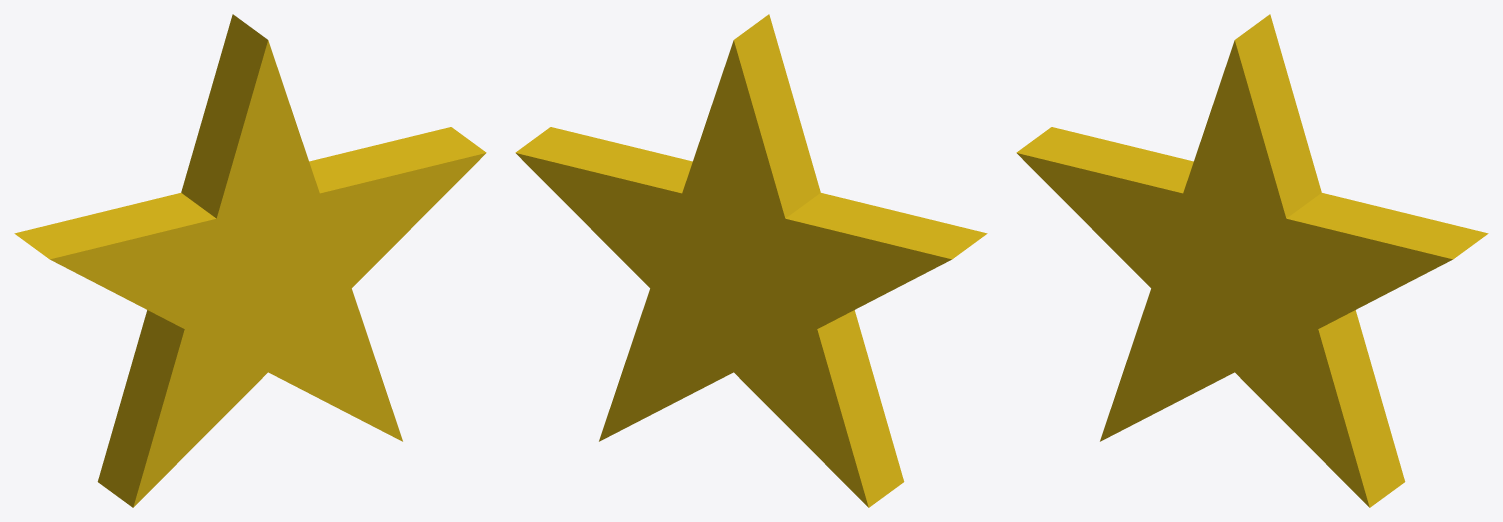
File: Estrella.fbx
3 views of the same model, side by side, from view 1: azimuth 30°, elevation 25°; view 2: azimuth 150°, elevation 25°; view 3: azimuth 330°, elevation 25° (orthographic).
Visible parts, largest first — view 1: Circle; view 2: Circle; view 3: Circle.
Part boxes in pixels (x1,y1,x2,y2): Circle: (14, 14, 486, 507); Circle: (515, 14, 987, 507); Circle: (1016, 14, 1488, 507).
Size of the model in its own units: 190 by 181 by 26.75.
